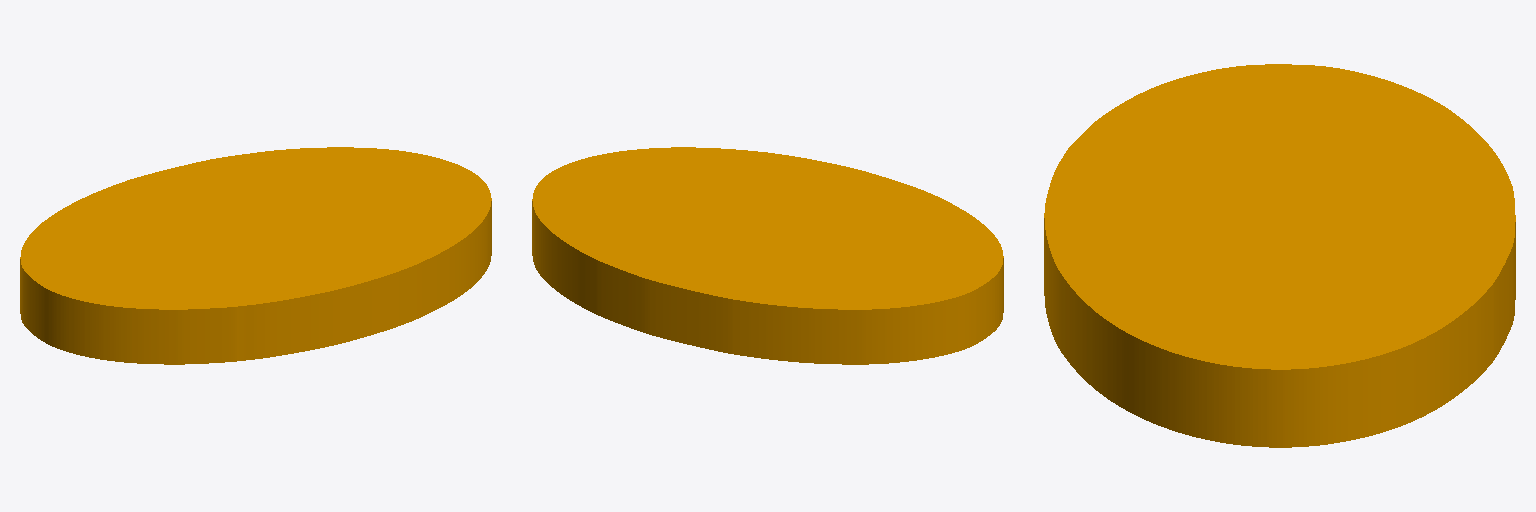
URDF robot description (oval.urdf):
<?xml version="1.0" encoding="utf-8"?>
<robot name="oval.urdf">
  <link name="baseLink">
    <contact>
      <lateral_friction value="0.5"/>
      <rolling_friction value="0.001"/>
      <spinning_friction value="0.001"/>
    </contact>
    <inertial>
      <origin rpy="0 0 0" xyz="0 0 0"/>
      <mass value="0.05"/>
      <inertia ixx="1" ixy="0" ixz="0" iyy="1" iyz="0" izz="1"/>
    </inertial>
    <visual>
      <origin rpy="0 0 0" xyz="0 0 0"/>
      <geometry>
        <mesh filename="oval.obj" scale="0.2 0.2 0.1"/> <!-- Scale x and y by 3.5, z by 1.0 -->
      </geometry>
    </visual>
    <collision>
      <origin rpy="0 0 0" xyz="0 0 0"/>
      <geometry>
        <mesh filename="oval.obj" scale="0.2 0.2 0.1"/> <!-- Scale x and y by 3.5, z by 1.0 -->
      </geometry>
    </collision>
  </link>
</robot>

--- What the picture shows (computed from the rendered views, not written in the file) ---
3 views of the same robot in one strip: view 1: azimuth 30°, elevation 25°; view 2: azimuth 150°, elevation 25°; view 3: azimuth 270°, elevation 25° (orthographic).
Robot: oval.urdf — 1 links, 0 joints (none); root link baseLink; default pose: all joints at 0.
Visible links, largest first — view 1: baseLink; view 2: baseLink; view 3: baseLink.
Link boxes in pixels (box(x1,y1,x2,y2)): baseLink: box(20, 147, 491, 364); baseLink: box(532, 147, 1003, 364); baseLink: box(1044, 64, 1515, 447).
Bounding box of the posed robot: 0.3304 × 0.2154 × 0.0394 m (x, y, z).
Meshes: 1 distinct files referenced, 1 mesh visuals loaded (1 OBJ).